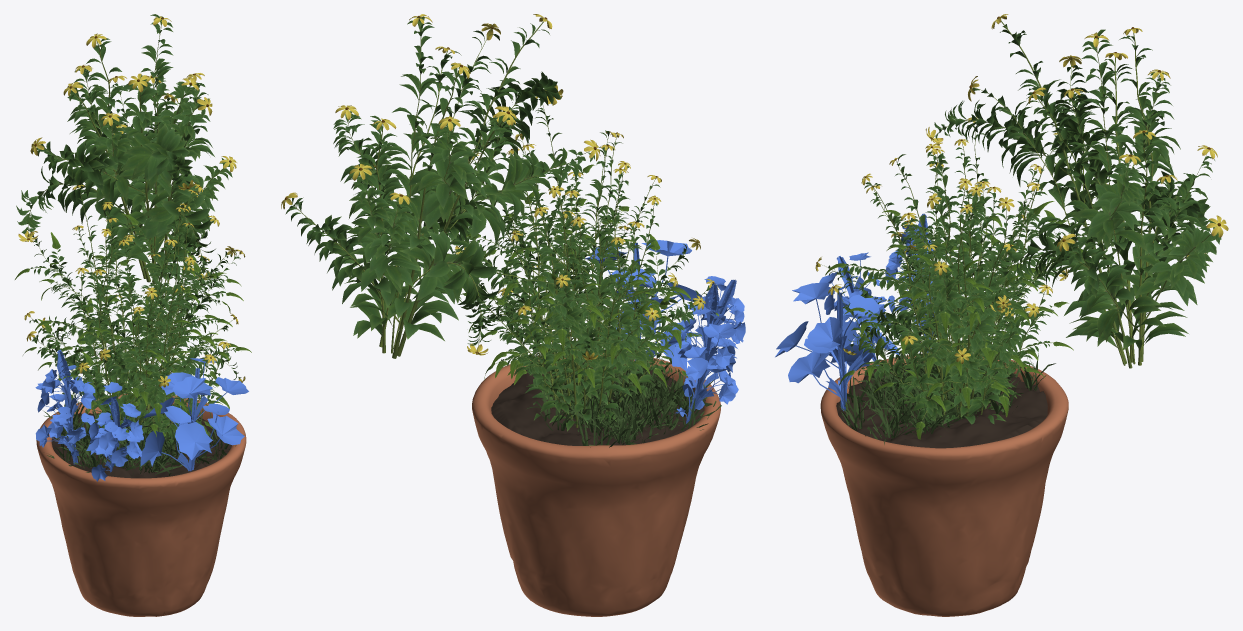
Rendered from planter-b.glb.
3 views of the same model, side by side, from view 1: azimuth 30°, elevation 25°; view 2: azimuth 150°, elevation 25°; view 3: azimuth 270°, elevation 25° (orthographic). The views are drawn at different scales.
Parts seen in each view (by area): view 1: SmallTerracottaPot (2), Leaf2_RudbeckiaLaciniata_Mat001 (2), Leaf3_RudbeckiaLaciniata_Mat001 (2), Leaf3_RudbeckiaLaciniata_Mat003 (2), Leaf2_RudbeckiaLaciniata_Mat003 (2), Bluepopper_04, Stem_RudbeckiaLaciniata_Mat003 (2), Leaf1_RudbeckiaLaciniata_Mat001 (2), Bluepopper_02, Bluepopper_01, Grass_1 (18), Grass_1 (19) (+5 smaller); view 2: SmallTerracottaPot (2), Leaf2_RudbeckiaLaciniata_Mat001 (2), Leaf3_RudbeckiaLaciniata_Mat001 (2), Leaf3_RudbeckiaLaciniata_Mat003 (2), Leaf2_RudbeckiaLaciniata_Mat003 (2), Stem_RudbeckiaLaciniata_Mat003 (2), Leaf1_RudbeckiaLaciniata_Mat001 (2), Grass_1 (19), Bluepopper_02, Stem_RudbeckiaLaciniata_Mat001 (2), Grass_1 (18), Bluepopper_04 (+5 smaller); view 3: SmallTerracottaPot (2), Leaf2_RudbeckiaLaciniata_Mat001 (2), Leaf3_RudbeckiaLaciniata_Mat001 (2), Leaf3_RudbeckiaLaciniata_Mat003 (2), Leaf2_RudbeckiaLaciniata_Mat003 (2), Bluepopper_04, Stem_RudbeckiaLaciniata_Mat003 (2), Leaf1_RudbeckiaLaciniata_Mat001 (2), Grass_1 (18), Stem_RudbeckiaLaciniata_Mat001 (2), Grass_1 (19), Petal2_RudbeckiaLaciniata_Mat003 (2) (+5 smaller).
Part boxes in pixels (bbox=[...]): SmallTerracottaPot (2): bbox=[36, 394, 246, 616]; Leaf2_RudbeckiaLaciniata_Mat001 (2): bbox=[18, 22, 233, 278]; Leaf3_RudbeckiaLaciniata_Mat001 (2): bbox=[16, 14, 228, 280]; Leaf3_RudbeckiaLaciniata_Mat003 (2): bbox=[29, 190, 240, 449]; Leaf2_RudbeckiaLaciniata_Mat003 (2): bbox=[30, 189, 241, 437]; Bluepopper_04: bbox=[140, 358, 248, 471]; Stem_RudbeckiaLaciniata_Mat003 (2): bbox=[30, 186, 239, 434]; Leaf1_RudbeckiaLaciniata_Mat001 (2): bbox=[15, 213, 251, 442]; Bluepopper_02: bbox=[35, 349, 96, 464]; Bluepopper_01: bbox=[86, 382, 143, 481]; Grass_1 (18): bbox=[77, 392, 236, 475]; Grass_1 (19): bbox=[44, 392, 178, 472]; SmallTerracottaPot (2): bbox=[472, 353, 720, 616]; Leaf2_RudbeckiaLaciniata_Mat001 (2): bbox=[285, 19, 594, 345]; Leaf3_RudbeckiaLaciniata_Mat001 (2): bbox=[301, 16, 585, 341]; Leaf3_RudbeckiaLaciniata_Mat003 (2): bbox=[449, 99, 710, 431]; Leaf2_RudbeckiaLaciniata_Mat003 (2): bbox=[453, 107, 709, 423]; Stem_RudbeckiaLaciniata_Mat003 (2): bbox=[455, 104, 708, 427]; Leaf1_RudbeckiaLaciniata_Mat001 (2): bbox=[446, 164, 718, 393]; Grass_1 (19): bbox=[528, 358, 721, 447]; Bluepopper_02: bbox=[667, 283, 745, 423]; Stem_RudbeckiaLaciniata_Mat001 (2): bbox=[292, 21, 589, 358]; Grass_1 (18): bbox=[533, 329, 691, 430]; Bluepopper_04: bbox=[585, 240, 702, 370]; SmallTerracottaPot (2): bbox=[820, 353, 1068, 616]; Leaf2_RudbeckiaLaciniata_Mat001 (2): bbox=[934, 30, 1221, 347]; Leaf3_RudbeckiaLaciniata_Mat001 (2): bbox=[935, 24, 1218, 350]; Leaf3_RudbeckiaLaciniata_Mat003 (2): bbox=[828, 125, 1100, 421]; Leaf2_RudbeckiaLaciniata_Mat003 (2): bbox=[829, 134, 1088, 424]; Bluepopper_04: bbox=[775, 282, 899, 410]; Stem_RudbeckiaLaciniata_Mat003 (2): bbox=[818, 125, 1097, 420]; Leaf1_RudbeckiaLaciniata_Mat001 (2): bbox=[825, 196, 1114, 439]; Grass_1 (18): bbox=[839, 347, 1023, 444]; Stem_RudbeckiaLaciniata_Mat001 (2): bbox=[933, 20, 1211, 368]; Grass_1 (19): bbox=[869, 336, 1055, 429]; Petal2_RudbeckiaLaciniata_Mat003 (2): bbox=[815, 117, 1106, 363].
Size of the model in its own units: 0.8923 by 1.66 by 1.13.
11 materials, 8 textured.
